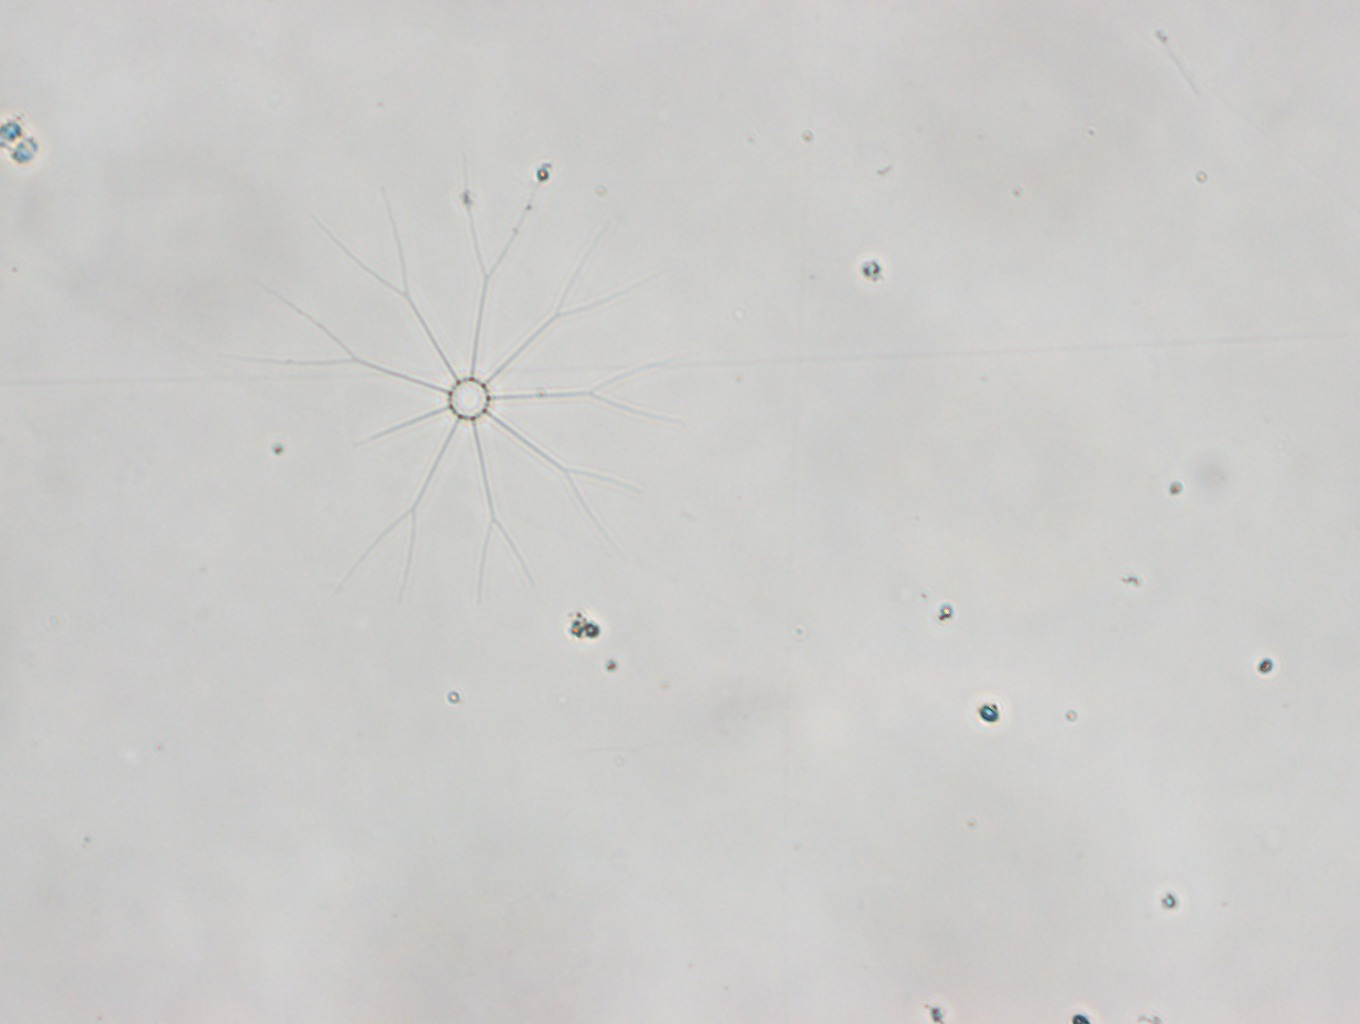bacteriastrum: (234, 150, 696, 608)
